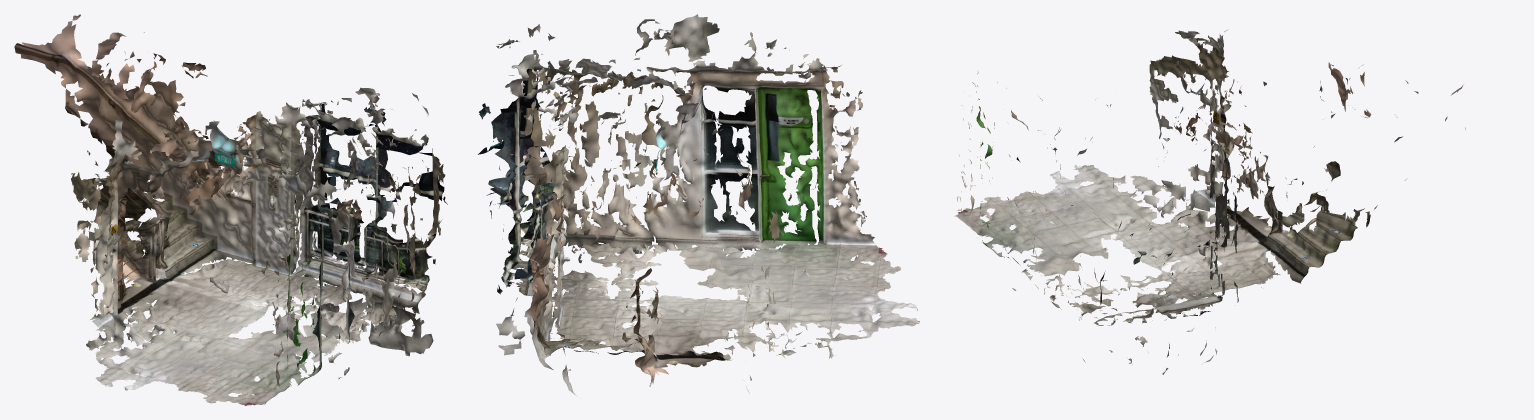
The model's file is 144568-lt4a-tex.glb.
3 views of the same model, side by side, from view 1: azimuth 30°, elevation 25°; view 2: azimuth 150°, elevation 25°; view 3: azimuth 270°, elevation 25° (orthographic). The views are drawn at different scales.
Visible parts, largest first — view 1: Node; view 2: Node; view 3: Node.
Part boxes in pixels (x1=…): Node: x1=14, y1=14, x2=447, y2=405; Node: x1=478, y1=14, x2=919, y2=395; Node: x1=954, y1=29, x2=1465, y2=374.
Size of the model in its own units: 6.53 by 4.95 by 8.55.
12 materials, 12 textured.
